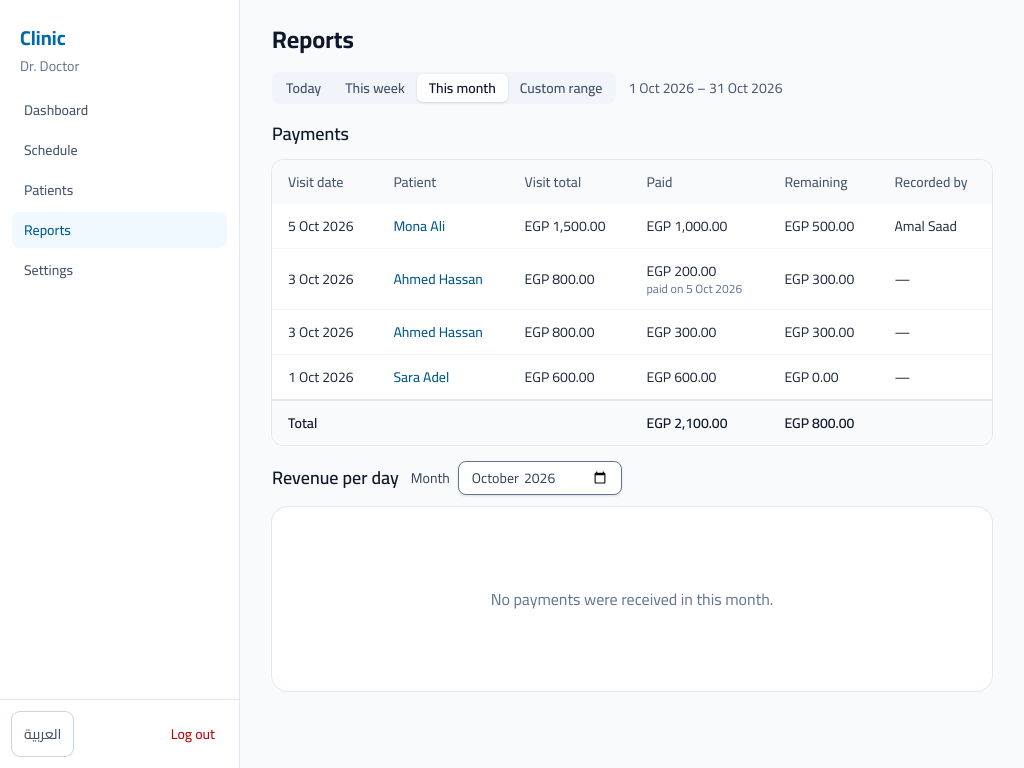
Test: Reports: payments table › updates the table and totals when the period changes, and keeps it in the URL
Expected: the table is shown, [272,160,992,445]
Step 1. Click the button "Today" → (304, 88), box [274,74,333,102]
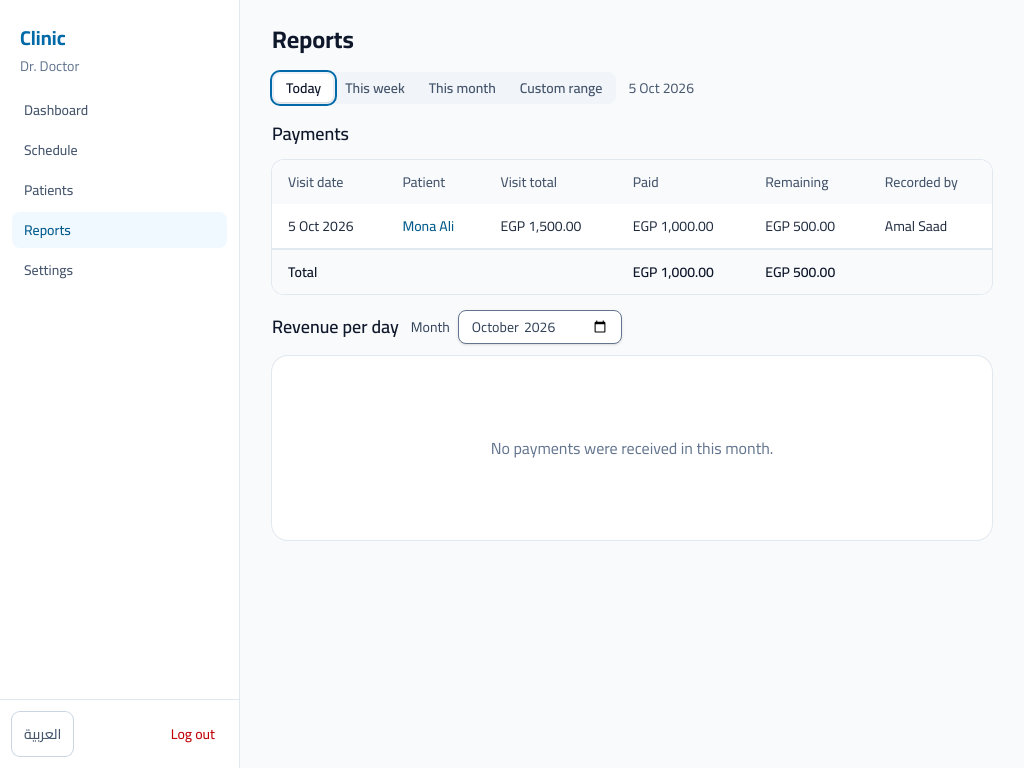
Result: the text "5 Oct 2026" is shown at [628,78,694,98]
Result: the 2nd cell "EGP 1,000.00" is shown at [617,249,749,294]
Step 2. Click the button "This week" → (375, 88), box [333,74,417,102]
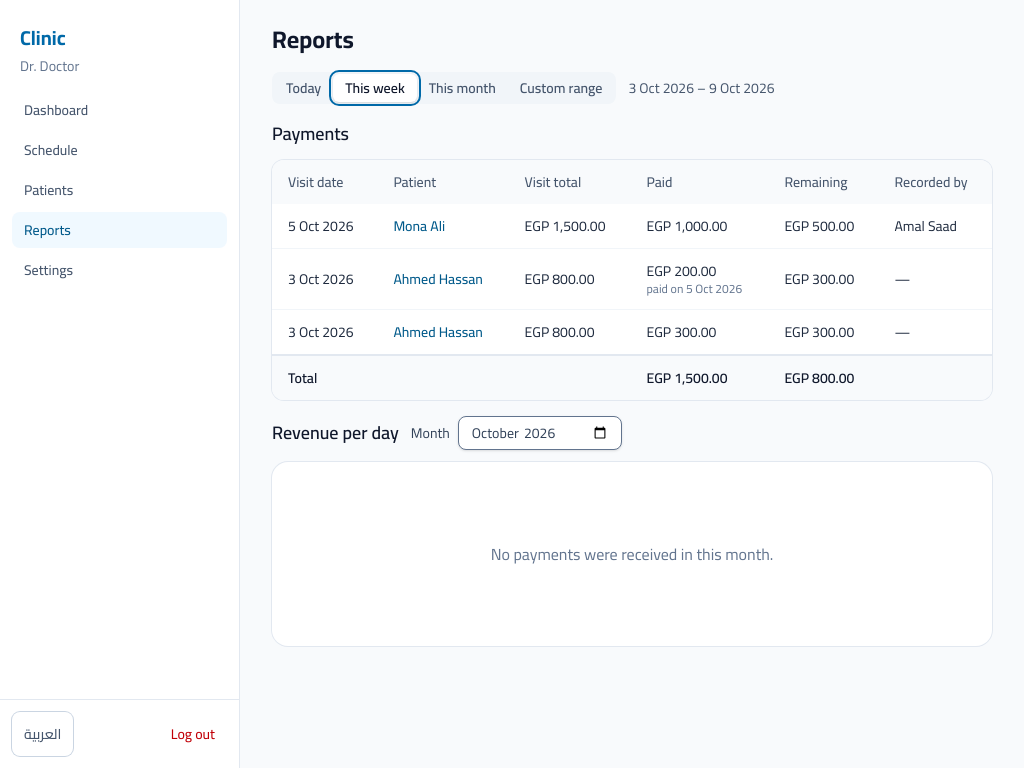
Result: the text "3 Oct 2026 – 9 Oct 2026" is shown at [628,78,775,98]
Result: the 2nd cell "EGP 1,500.00" is shown at [630,355,768,400]
